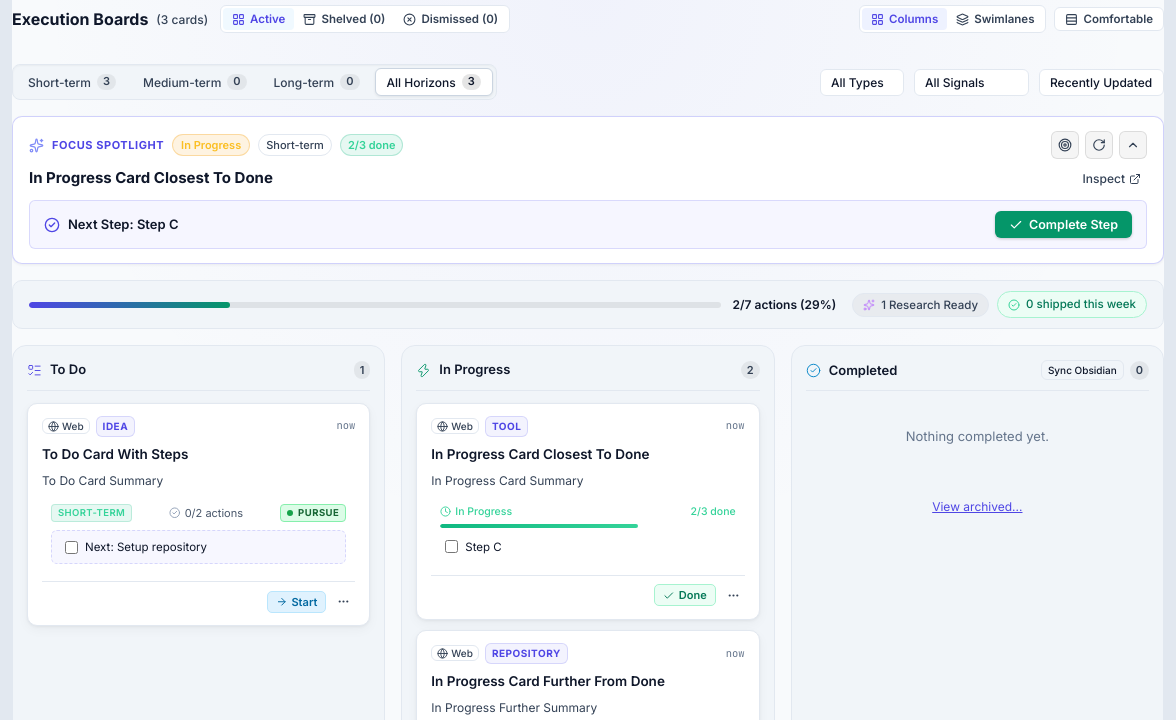
Test case: KanbanBoard Density & Usability › Focus Spotlight Recommendation Banner › cycles suggestions on clicking Next Suggestion (↻)
Expected: the element "Focus Spotlight" shows "In Progress Card Closest To Done", 29,168 -> 273,187
Note: 1st cycle: Card 203 (2 remaining steps)
Click the button named "next suggestion".
click(1099, 145)  # box 1085,131 -> 1113,159
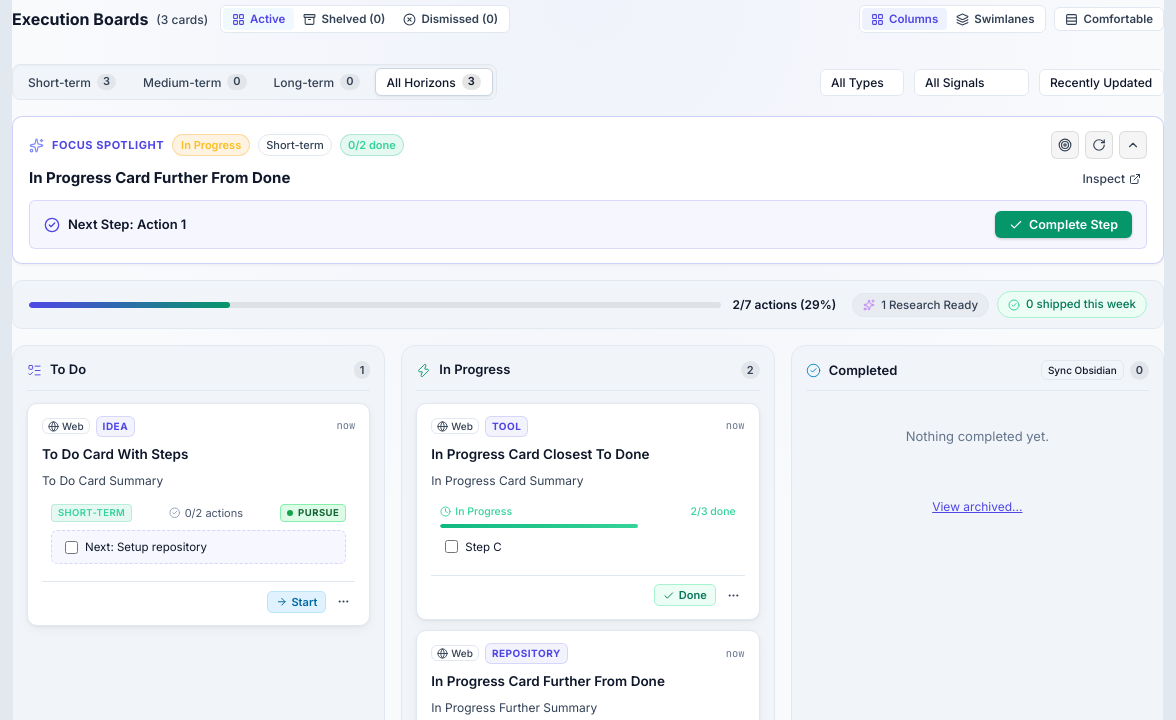
Result: the element "Focus Spotlight" shows "In Progress Card Further From Done" at 29,168 -> 290,187
Result: the element "Focus Spotlight" shows "Next Step: Action 1" at 68,216 -> 186,232
Note: 2nd cycle: Card 201 (to-do)
Click the button named "next suggestion".
click(1099, 145)  # box 1085,131 -> 1113,159
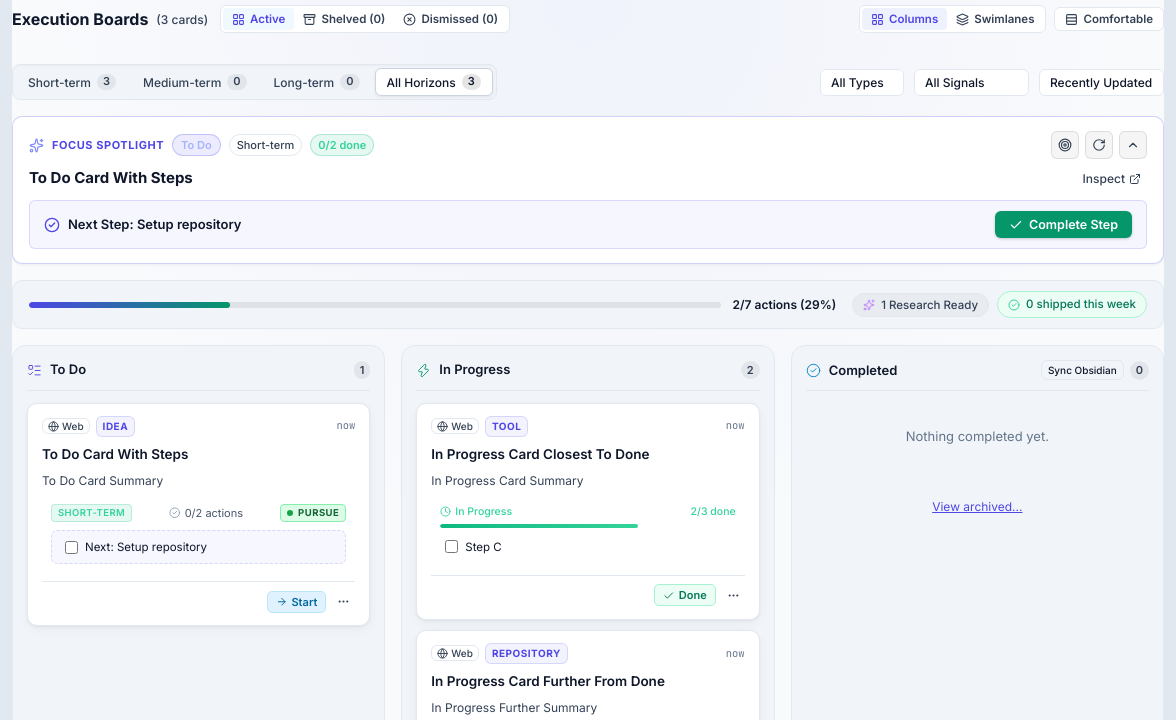
Result: the element "Focus Spotlight" shows "To Do Card With Steps" at 29,168 -> 193,187
Result: the element "Focus Spotlight" shows "Next Step: Setup repository" at 68,216 -> 242,232
Note: 3rd cycle: loops back to Card 202
Click the button named "next suggestion".
click(1099, 145)  # box 1085,131 -> 1113,159
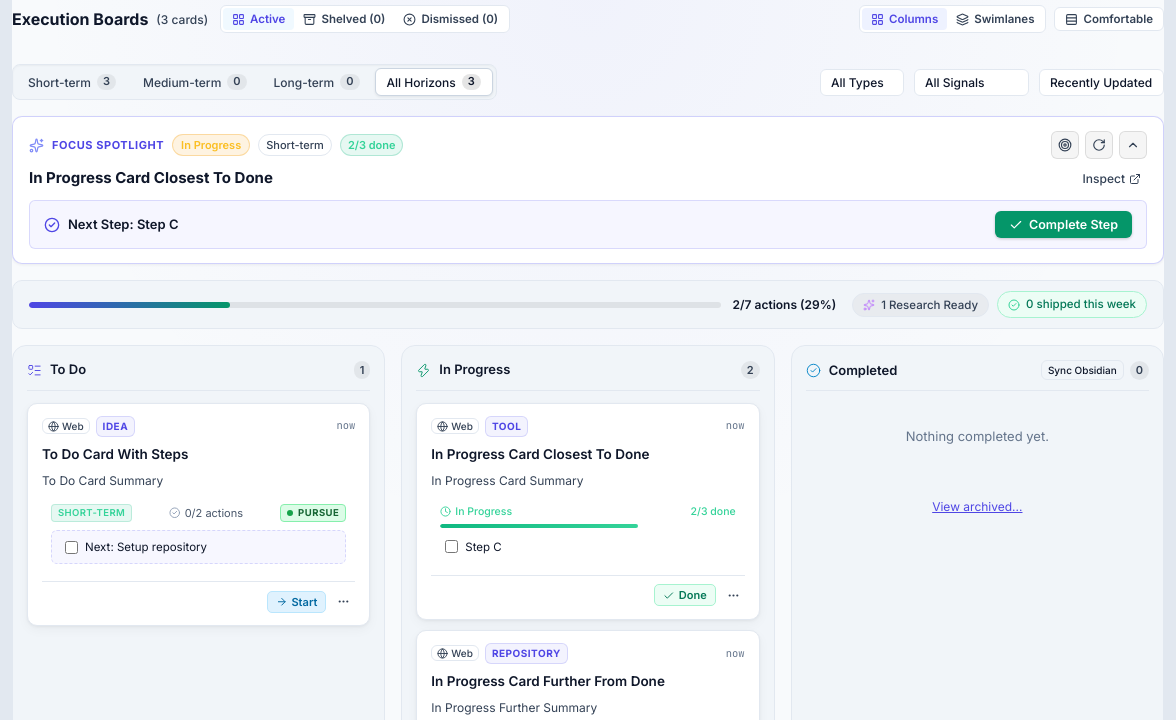
Result: the element "Focus Spotlight" shows "In Progress Card Closest To Done" at 29,168 -> 273,187
